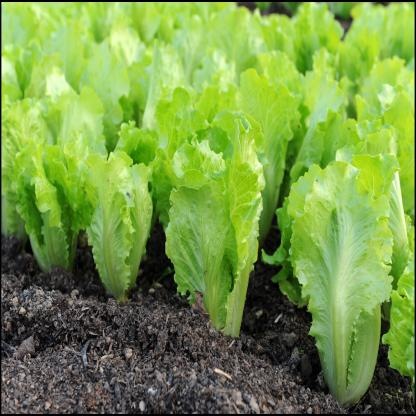--: (1, 3, 416, 280), (262, 85, 408, 406), (150, 66, 277, 350), (66, 76, 156, 304)
